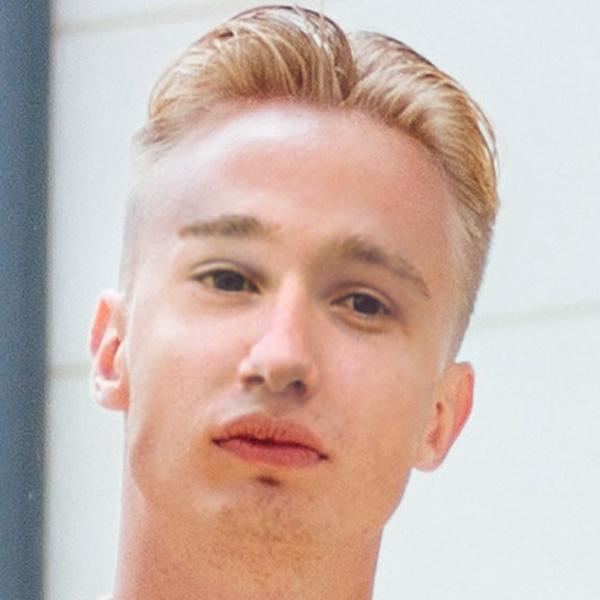Eyes: (316, 269, 405, 344), (182, 247, 272, 315)
